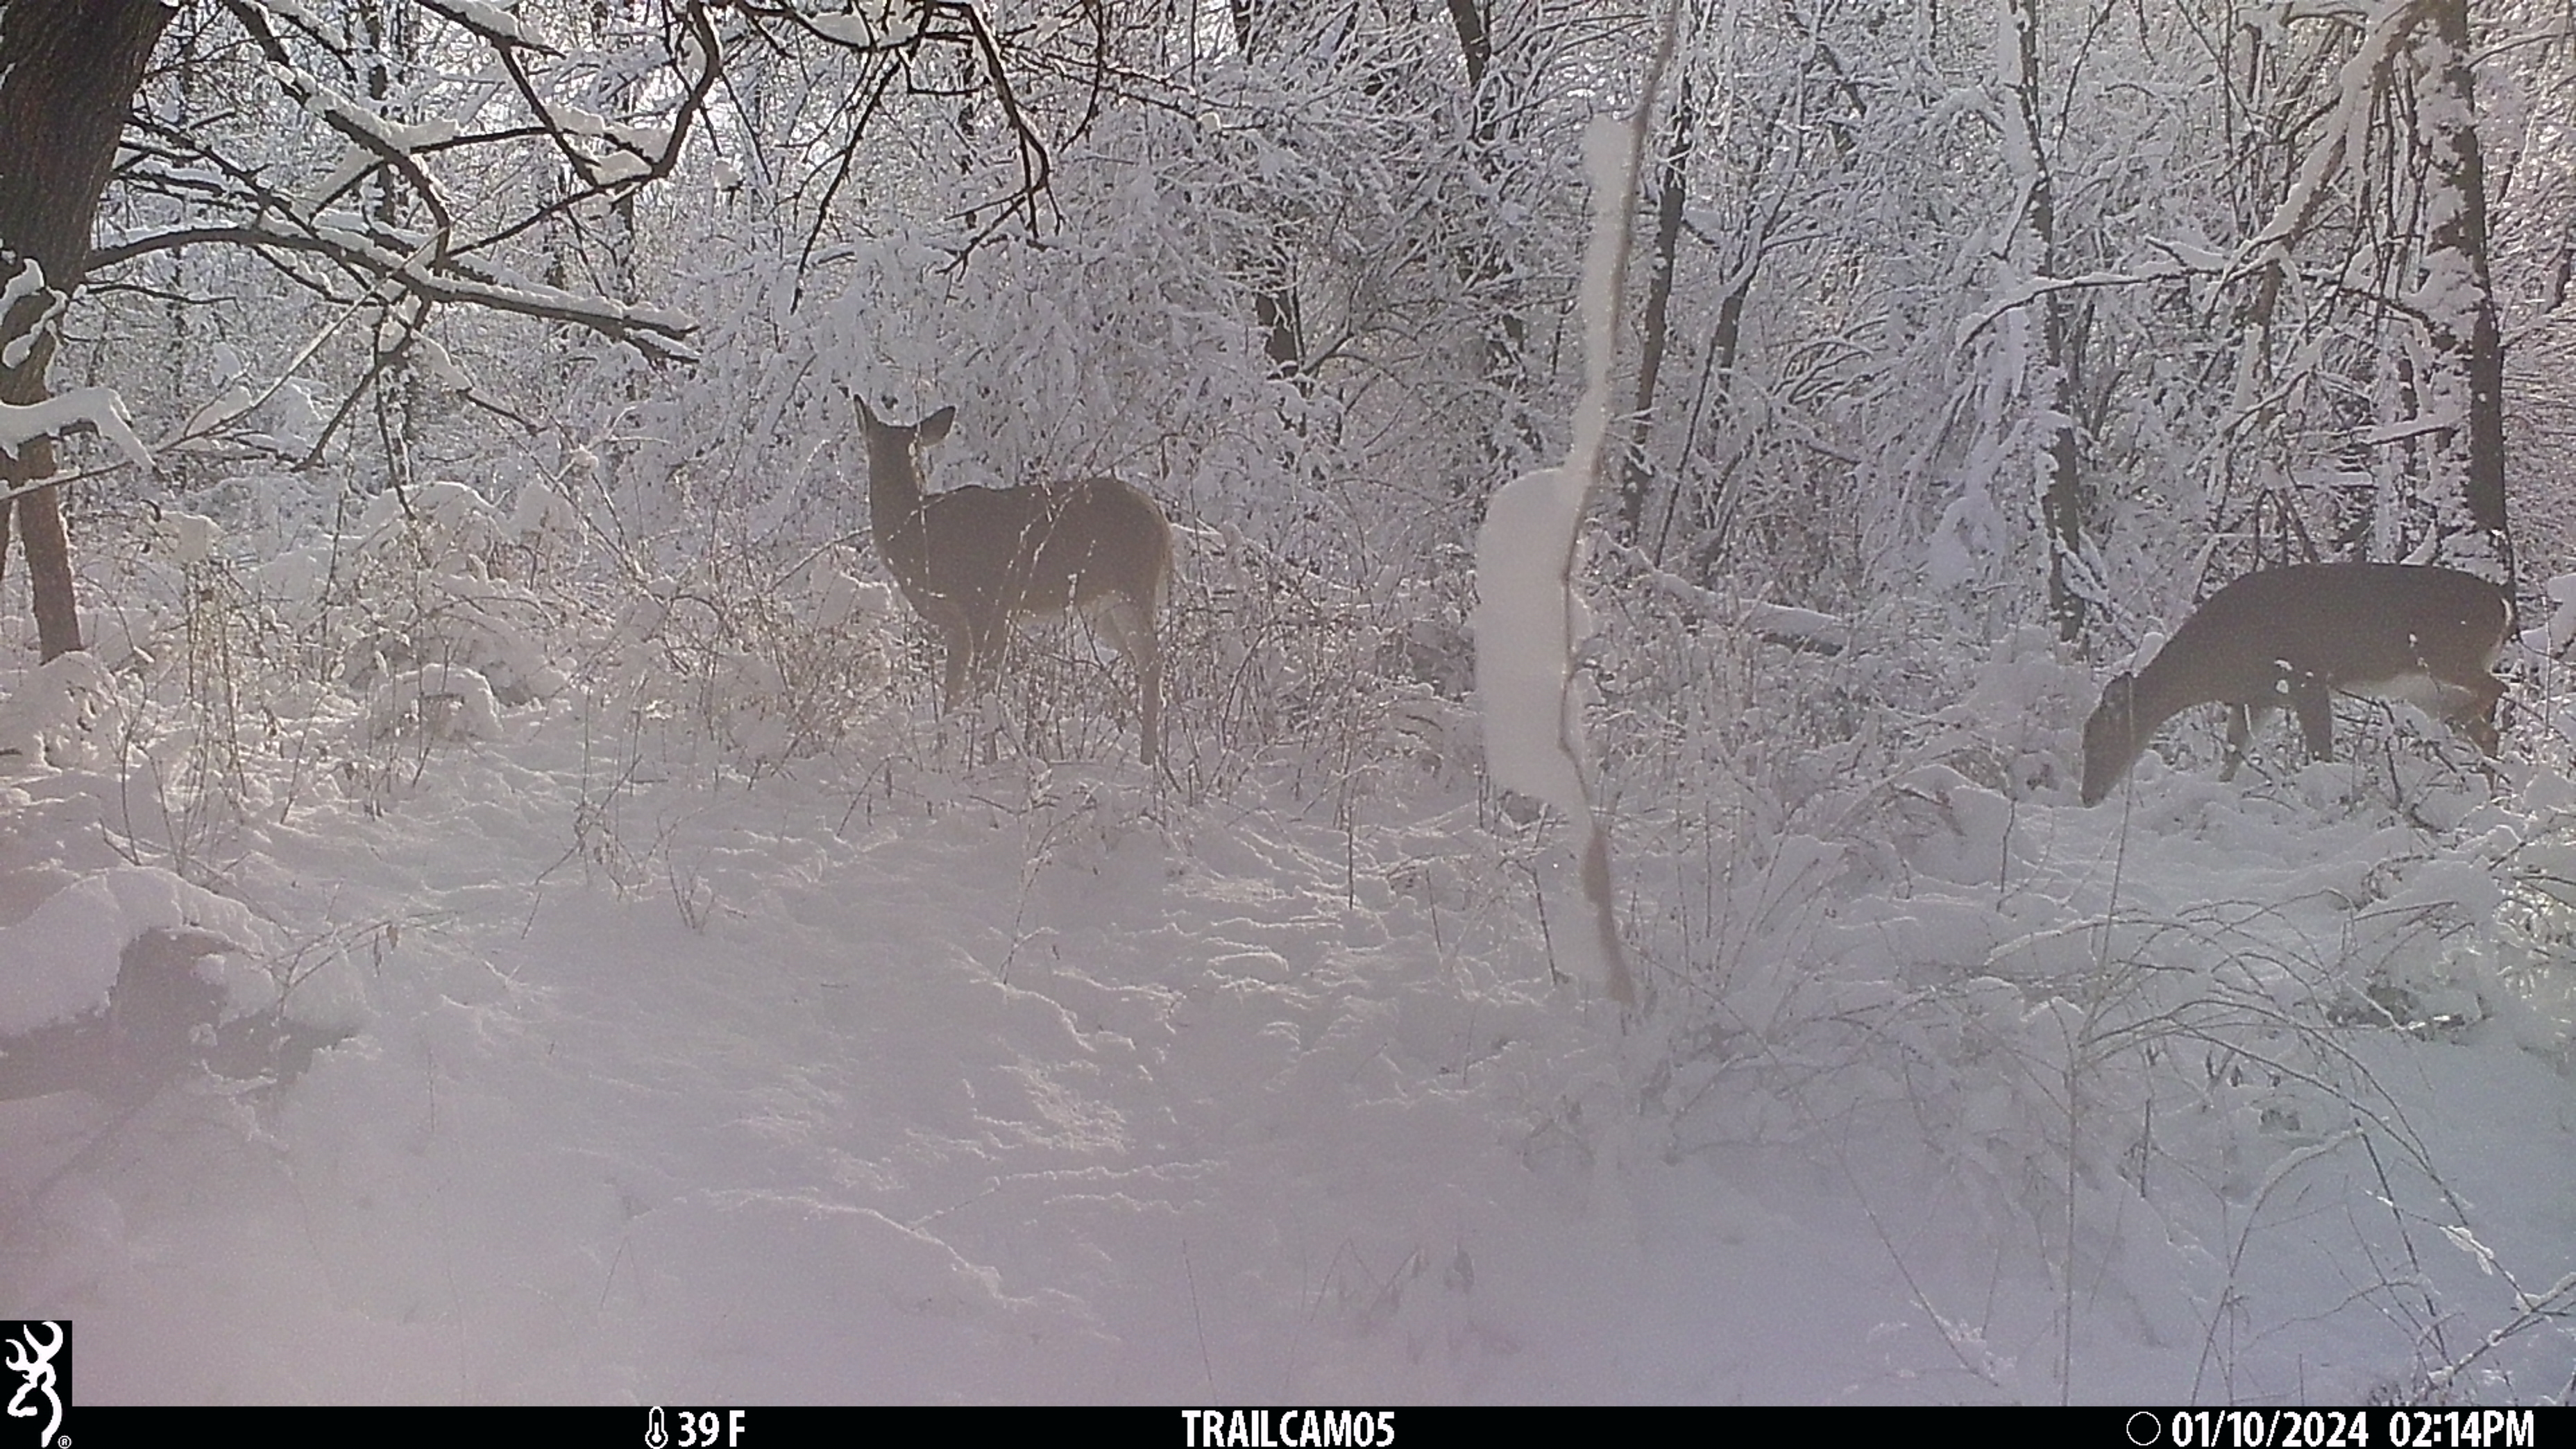Deer: (844, 384, 1178, 750)
DeerDoe: (2075, 556, 2519, 805)
